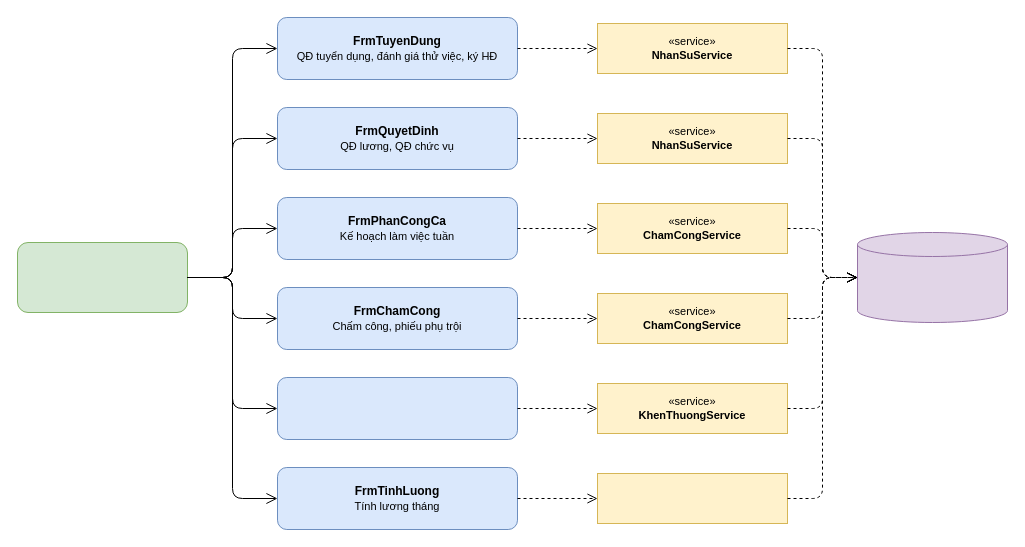
The diagram is 1025 pixels wide and 547 high, and some of its shapes have lost their labels. Each missing label, with the centre of its shape:
"FrmKhenThuongKyLuat QĐ khen thưởng / kỷ luật, phiếu chi / thu" goes at point 397,408.
"FrmMain" goes at point 102,277.
"SQL Server QuanLyNhanSu" goes at point 932,277.
"«service» LuongService" goes at point 692,498.
